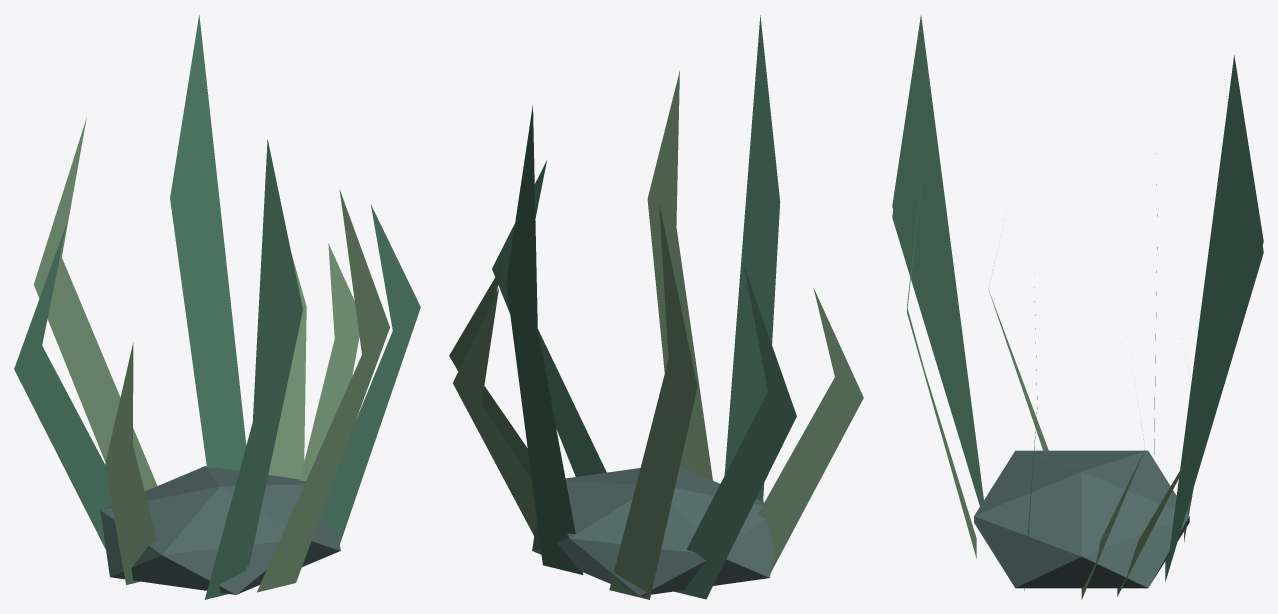
File: sea_grass.glb
3 views of the same model, side by side, from view 1: azimuth 30°, elevation 25°; view 2: azimuth 150°, elevation 25°; view 3: azimuth 270°, elevation 25° (orthographic). The views are drawn at different scales.
Visible parts, largest first — view 1: small anchor stone; view 2: small anchor stone; view 3: small anchor stone.
Boxes of the visible parts, x1,y1,x2,y2 form: small anchor stone: (14, 15, 420, 599); small anchor stone: (449, 15, 863, 599); small anchor stone: (892, 15, 1263, 599).
Bounding box in the file's own units: 0.6251 × 0.845 × 0.5281.
